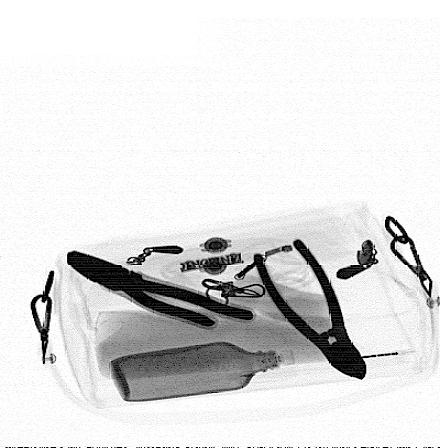Pliers: (252, 238, 368, 381), (66, 249, 258, 330)
